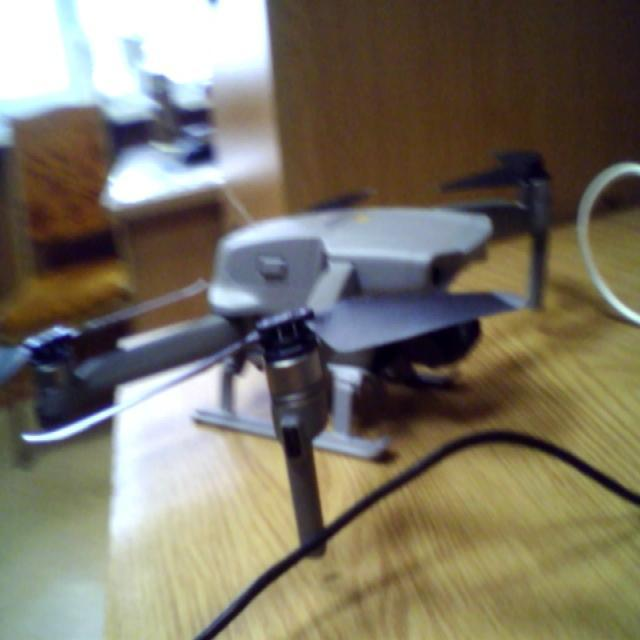drone: (0, 143, 613, 546)
